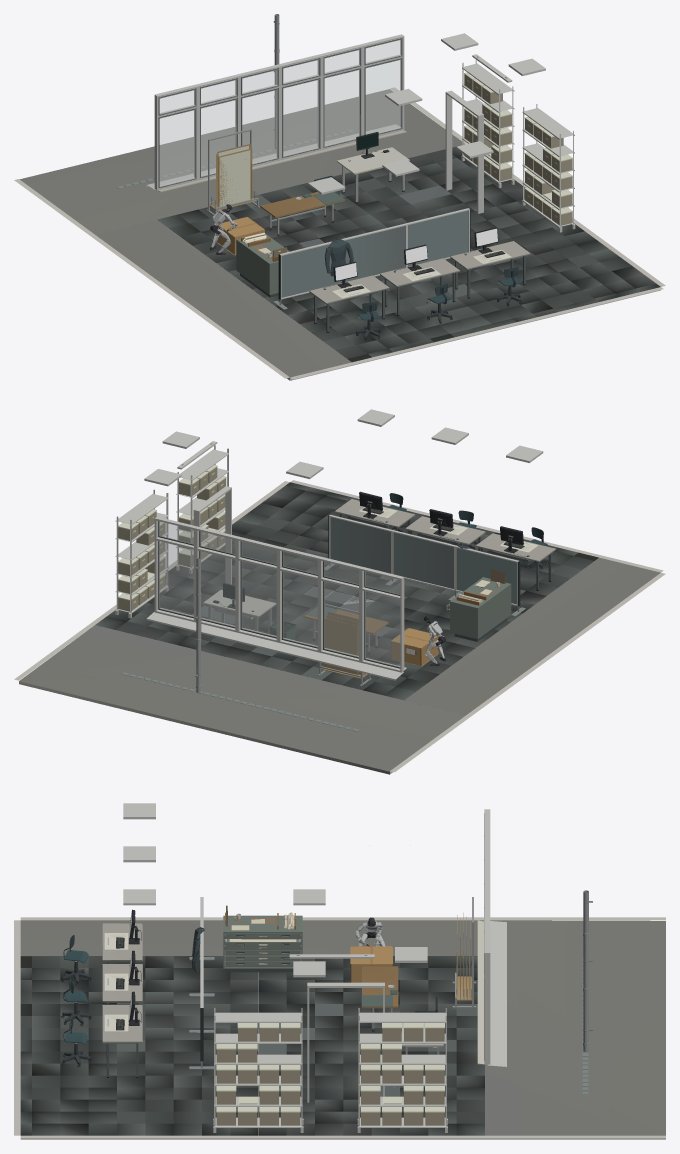
The model's file is mini.glb.
3 views of the same model, one above another, from view 1: azimuth 30°, elevation 25°; view 2: azimuth 150°, elevation 25°; view 3: azimuth 270°, elevation 25° (orthographic). The views are drawn at different scales.
Parts seen in each view (by area): view 1: part/archive_flatfiles/cork_mug_coaster, part/archive_flatfiles/drawer_1_drawing_linework, part/window_wall/actual_glass_panes, part/existing_chair_1_back/shell, part/occupied_workstation_1/dark_lcd; view 2: part/archive_flatfiles/cork_mug_coaster, part/archive_flatfiles/drawer_1_drawing_linework, part/window_wall/actual_glass_panes, part/existing_chair_1_back/shell; view 3: part/archive_flatfiles/cork_mug_coaster, part/archive_flatfiles/drawer_1_drawing_linework, part/existing_chair_1_back/shell.
Boxes of the visible parts, bbox=[...] form: part/archive_flatfiles/cork_mug_coaster: bbox=[14, 74, 665, 380]; part/archive_flatfiles/drawer_1_drawing_linework: bbox=[117, 14, 575, 332]; part/window_wall/actual_glass_panes: bbox=[160, 40, 400, 185]; part/existing_chair_1_back/shell: bbox=[356, 267, 521, 338]; part/occupied_workstation_1/dark_lcd: bbox=[335, 228, 497, 280]; part/archive_flatfiles/cork_mug_coaster: bbox=[14, 467, 665, 774]; part/archive_flatfiles/drawer_1_drawing_linework: bbox=[115, 409, 556, 731]; part/window_wall/actual_glass_panes: bbox=[159, 521, 399, 667]; part/existing_chair_1_back/shell: bbox=[387, 493, 548, 567]; part/archive_flatfiles/cork_mug_coaster: bbox=[14, 909, 665, 1139]; part/archive_flatfiles/drawer_1_drawing_linework: bbox=[63, 803, 592, 1132]; part/existing_chair_1_back/shell: bbox=[61, 935, 91, 1064].
Bounding box in the file's own units: 9.24 × 3.21 × 11.52.
Materials: 9 (9 with a texture image).
